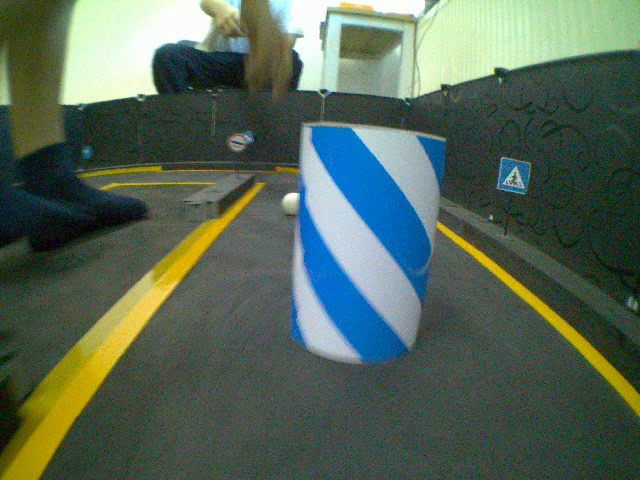bucket: (293, 119, 451, 364)
